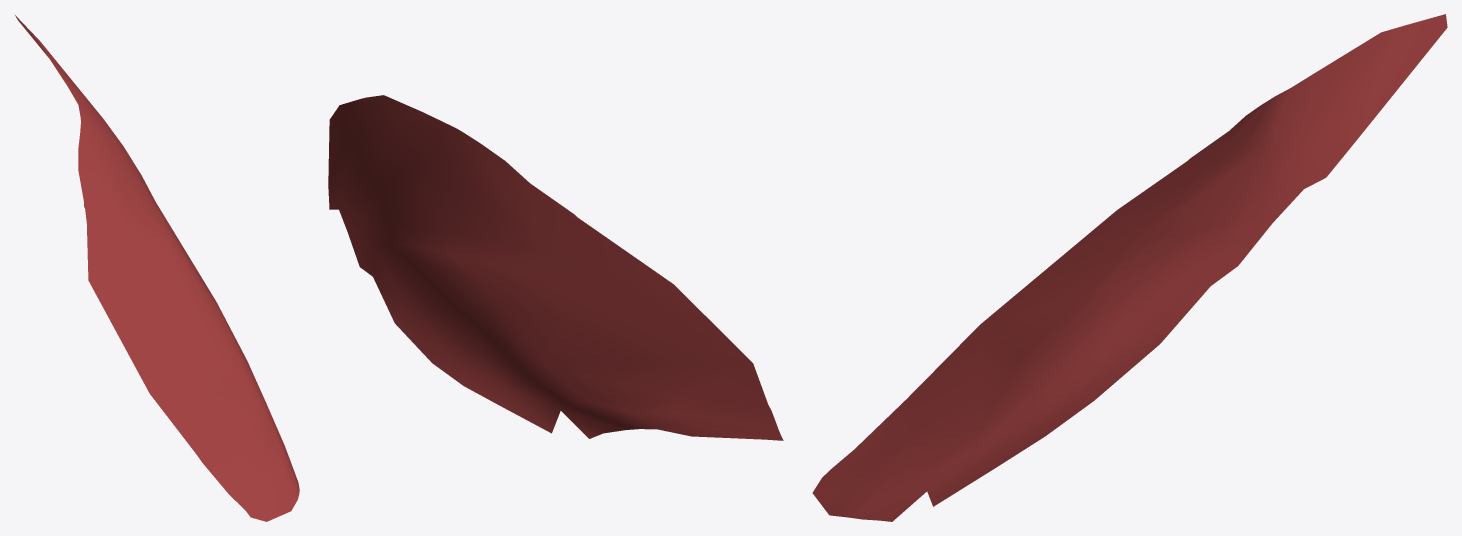
File: serratus-anterior-muscle-el.glb
3 renders of one model, left to right at view 1: azimuth 30°, elevation 25°; view 2: azimuth 150°, elevation 25°; view 3: azimuth 270°, elevation 25°, orthographic. The views are drawn at different scales.
Parts seen in each view (by area): view 1: Serratus anterior muscle.el; view 2: Serratus anterior muscle.el; view 3: Serratus anterior muscle.el.
Boxes of the visible parts, x1,y1,x2,y2 form: Serratus anterior muscle.el: [15, 15, 299, 521]; Serratus anterior muscle.el: [328, 95, 783, 440]; Serratus anterior muscle.el: [812, 14, 1447, 521].
Size of the model in its own units: 0.0067 by 0.0167 by 0.0206.
